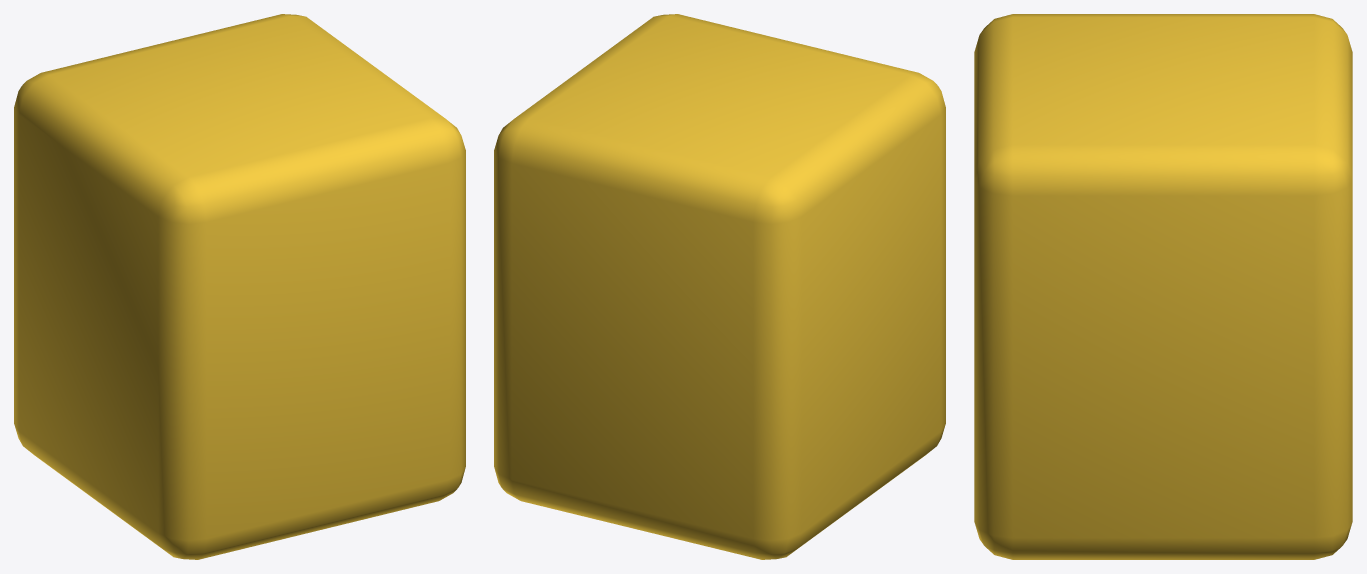
The model's file is Ground.fbx.
3 views of the same model, side by side, from view 1: azimuth 30°, elevation 25°; view 2: azimuth 150°, elevation 25°; view 3: azimuth 270°, elevation 25° (orthographic). The views are drawn at different scales.
Parts seen in each view (by area): view 1: Platform02; view 2: Platform02; view 3: Platform02.
Boxes of the visible parts, x1,y1,x2,y2 form: Platform02: (14,14,465,559); Platform02: (494,14,945,559); Platform02: (974,14,1352,559).
Bounding box in the file's own units: 128 × 153 × 128.
